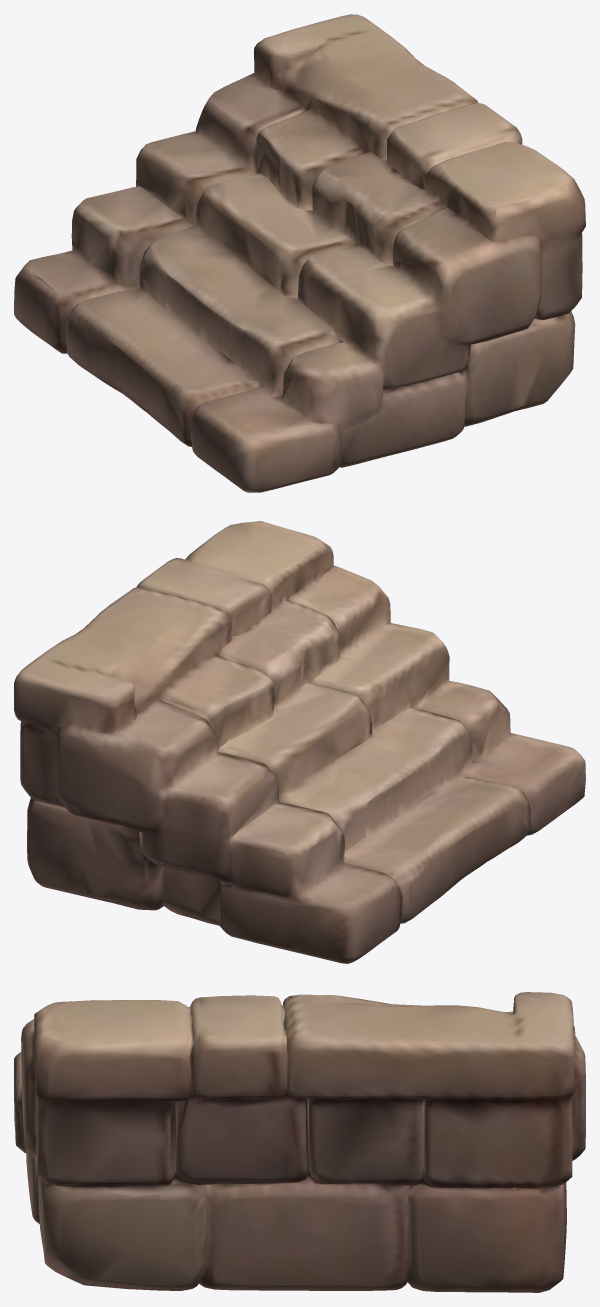
Rendered from c01_escada_pedra.glb.
The picture shows the model from 3 angles, top to bottom: view 1: azimuth 30°, elevation 25°; view 2: azimuth 150°, elevation 25°; view 3: azimuth 270°, elevation 25°; orthographic projection. The views are drawn at different scales.
Visible parts, largest first — view 1: c01_escada_pedra; view 2: c01_escada_pedra; view 3: c01_escada_pedra.
Part boxes in pixels (x1,y1,x2,y2): c01_escada_pedra: (14,14,585,492); c01_escada_pedra: (14,521,585,963); c01_escada_pedra: (14,992,585,1292).
Bounding box in the file's own units: 1.6 × 0.9821 × 1.95.
Materials: 1 (1 with a texture image).
